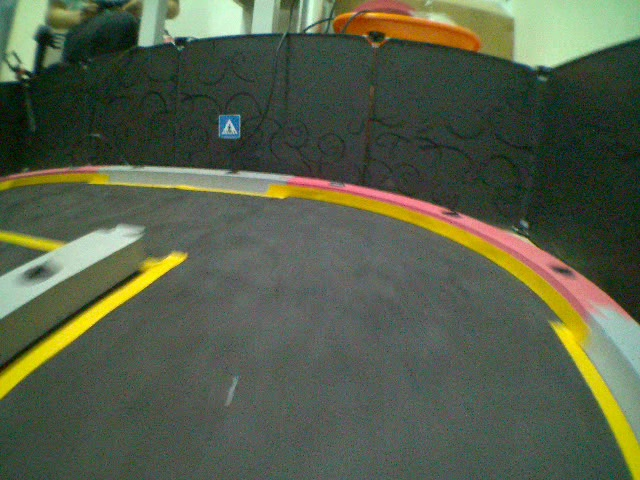crossing: (218, 114, 241, 141)
